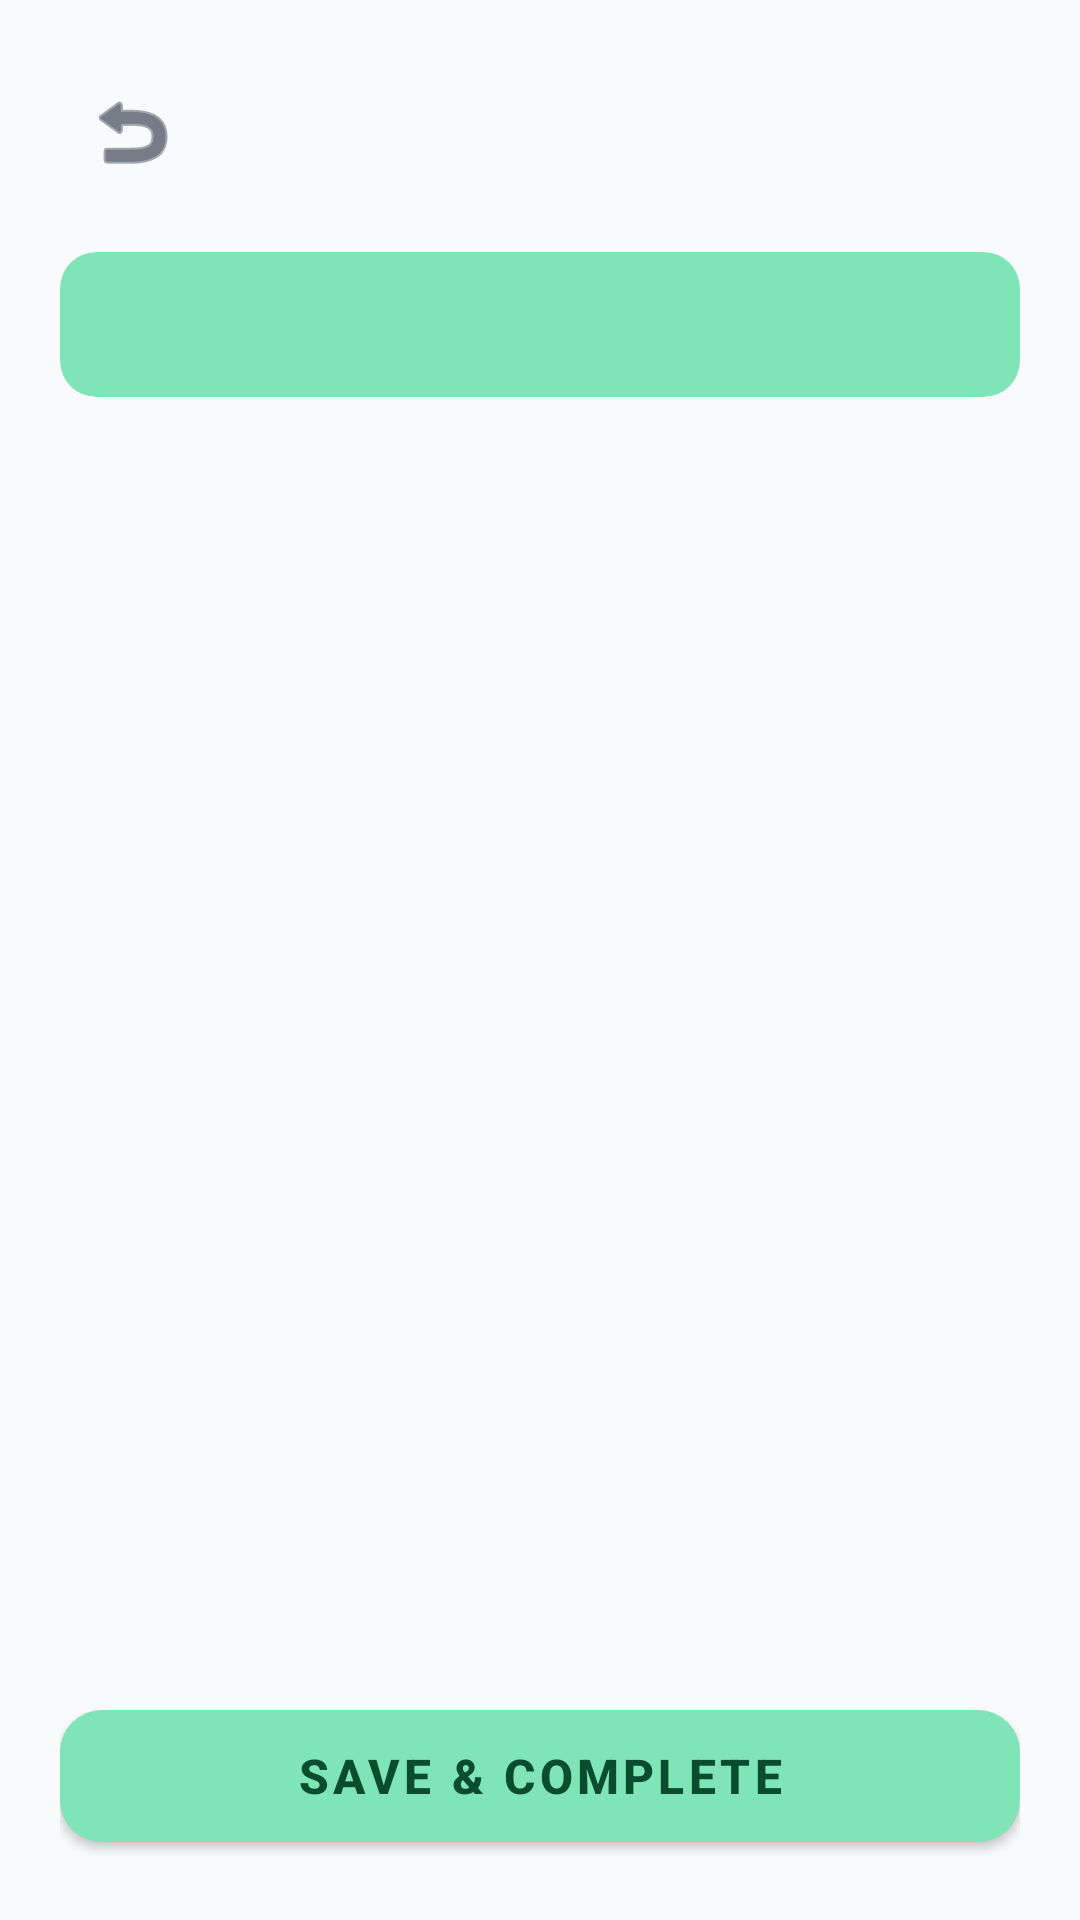

Where to tap for icons on this 1080×1920 app screen, as (x=x, y=y):
Back: (x=133, y=132)
